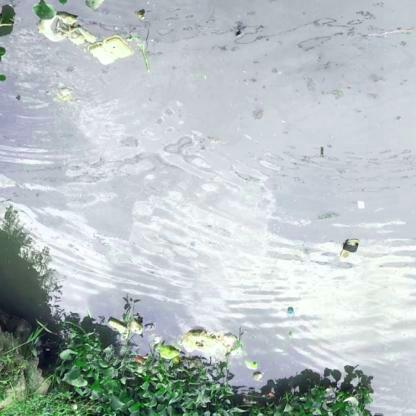Plastic: (282, 306, 297, 318)
Trash: (37, 13, 90, 47), (86, 37, 136, 71), (190, 328, 233, 356), (110, 316, 144, 340), (337, 237, 360, 265), (242, 355, 262, 377), (354, 196, 370, 213), (158, 348, 178, 361), (130, 358, 146, 366)
